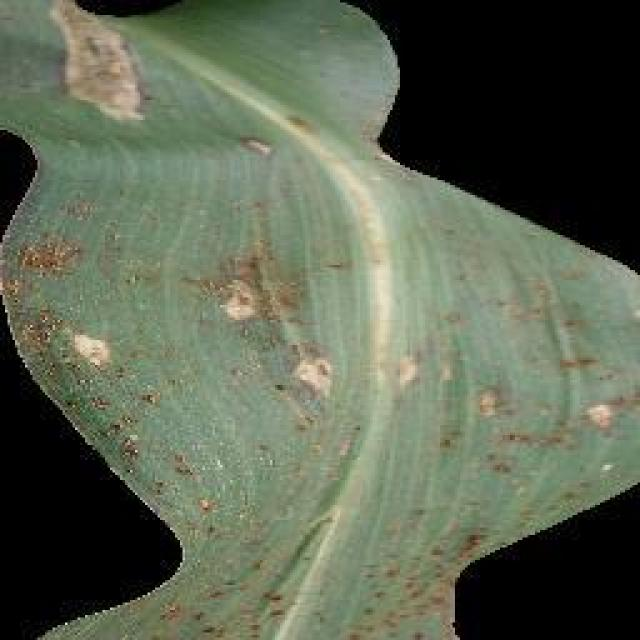Corn Common Rust: (37, 187, 640, 640)
